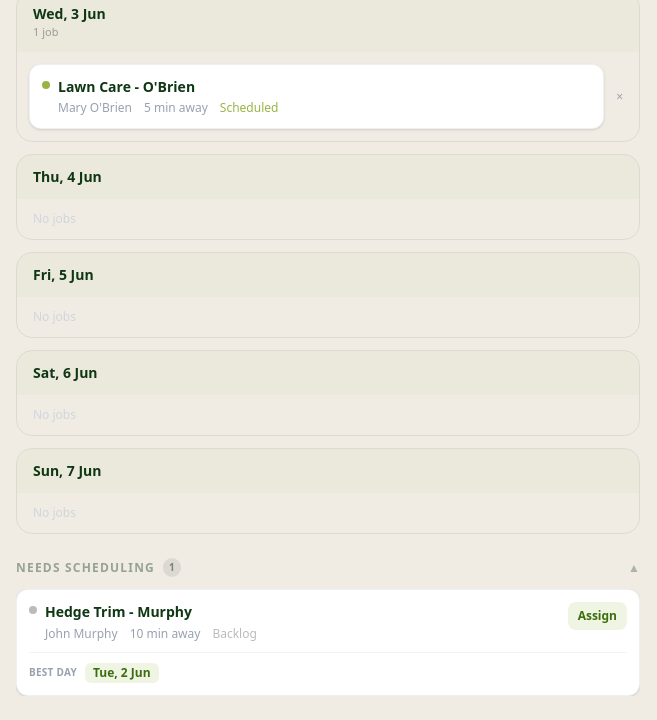
Test case: Schedule — assigning a date › collapses day picker when Cancel is clicked
(page scrolled)
Click the button "Assign": (597, 616) x1=568 y1=602 x2=627 y2=630
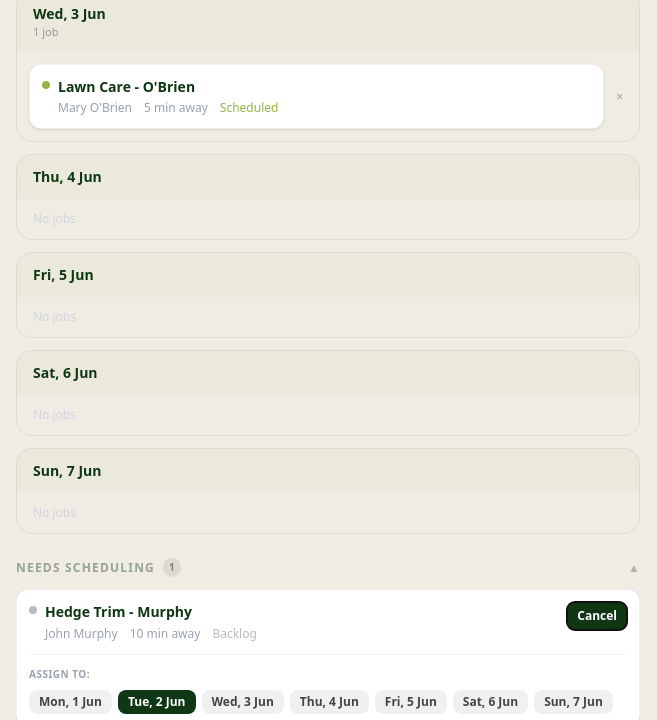
Expected: the text "Assign to:" is shown, x1=29 y1=666 x2=90 y2=680
Click the button "Cancel": (597, 616) x1=567 y1=602 x2=627 y2=630
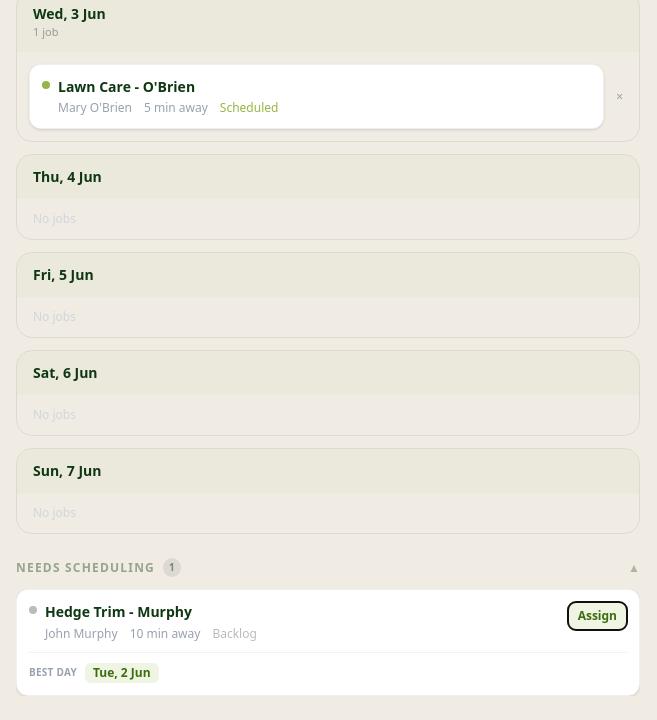
Expected: the text "Assign to:" is gone
